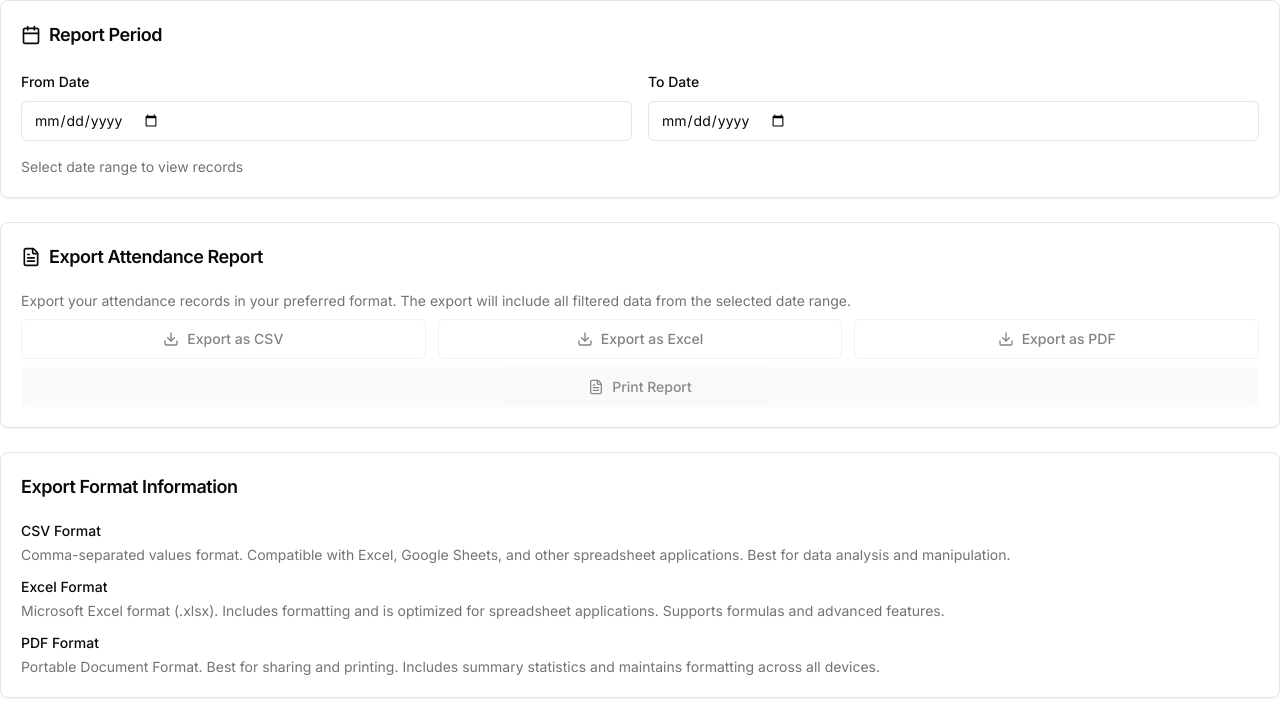
Test case: AttendanceReports › should display error message on record load failure
Type "2024-01-01" into the date field labelled "From Date" at [326, 121], box [21,101,632,141]
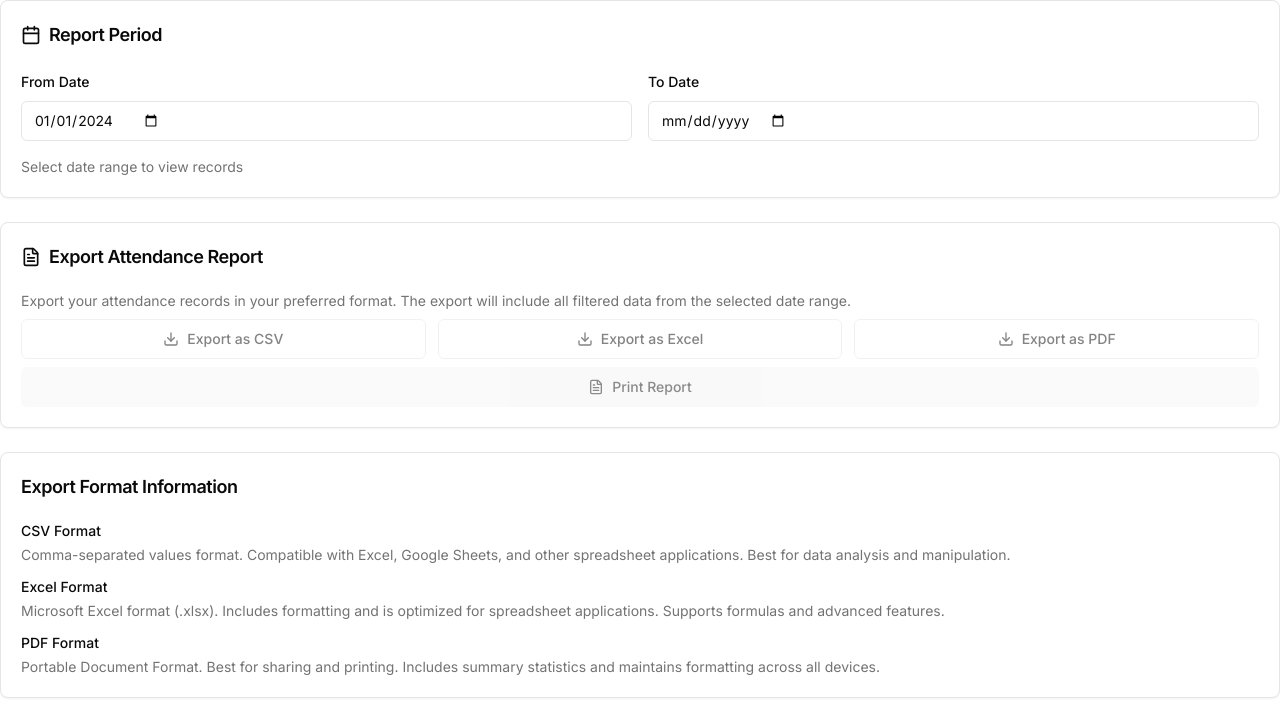
Type "2024-01-31" into the date field labelled "To Date" at [954, 121], box [648,101,1259,141]
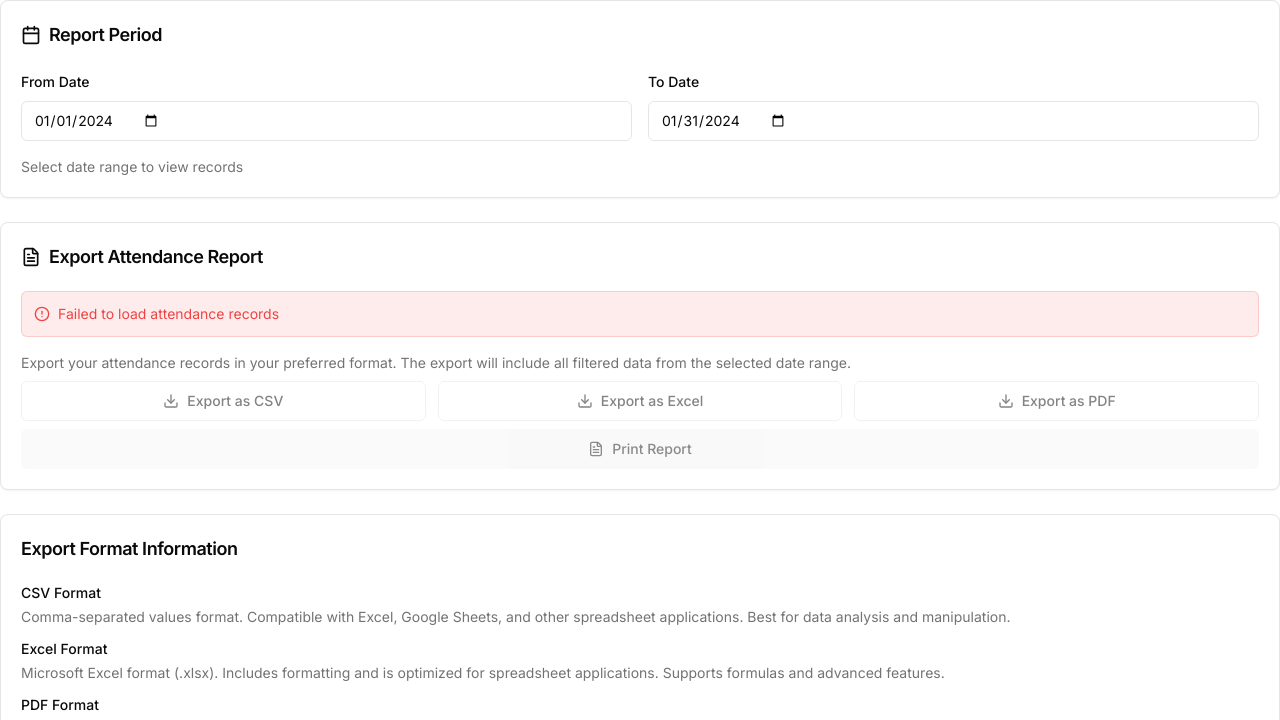
Now the text "Failed to load attendance records" is shown, box [58,304,279,324]
